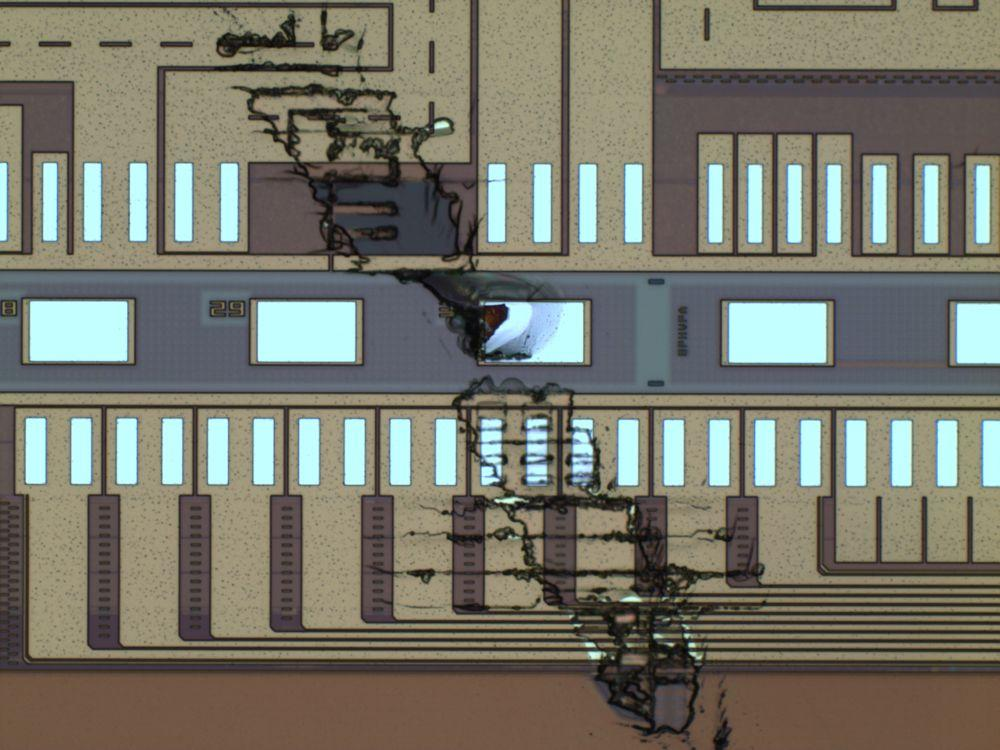SCRATCH: (190, 1, 775, 750)
